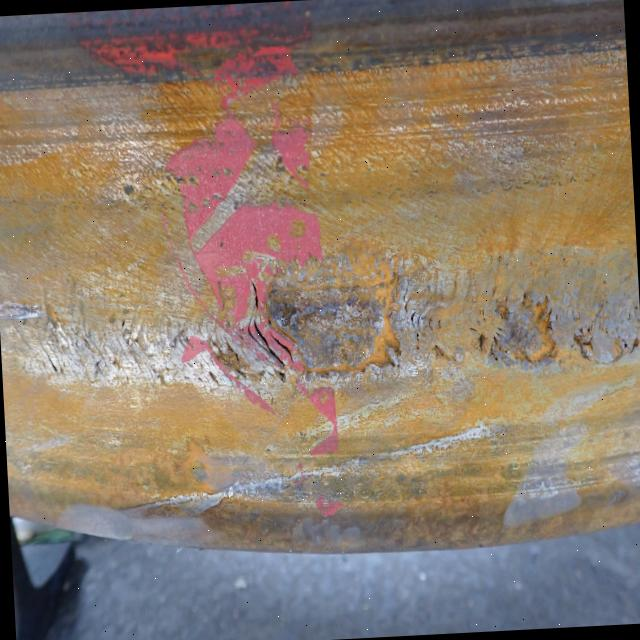Contact_Fatigue_Cracks: (23, 314, 243, 397), (242, 277, 310, 382), (395, 268, 439, 379), (569, 294, 640, 361), (492, 298, 558, 365)
